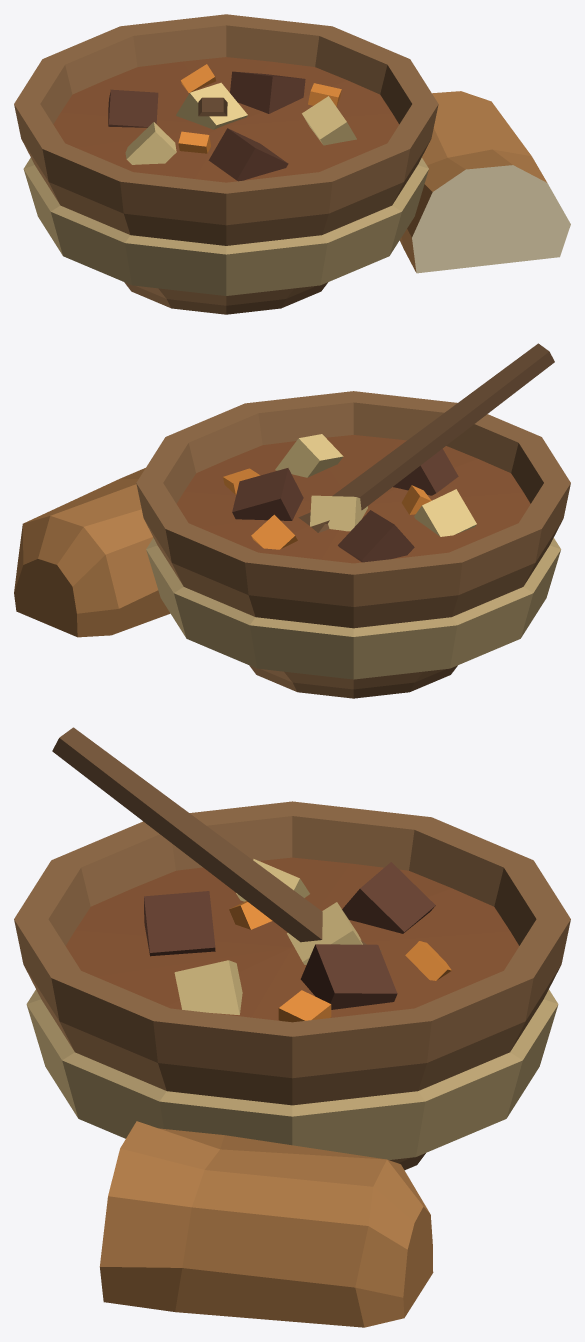
The model's file is it-meal.glb.
3 views of the same model, one above another, from view 1: azimuth 30°, elevation 25°; view 2: azimuth 150°, elevation 25°; view 3: azimuth 270°, elevation 25° (orthographic). The views are drawn at different scales.
Visible parts, largest first — view 1: bowl, stew, bread, bowl_band, spoon; view 2: bowl, stew, bowl_band, bread, spoon; view 3: bowl, bread, stew, bowl_band, spoon.
Boxes of the visible parts, x1=… form: bowl: x1=14, y1=14, x2=438, y2=314; stew: x1=53, y1=57, x2=399, y2=182; bread: x1=399, y1=91, x2=570, y2=273; bowl_band: x1=23, y1=157, x2=428, y2=295; spoon: x1=198, y1=97, x2=227, y2=116; bowl: x1=136, y1=391, x2=570, y2=698; stew: x1=176, y1=434, x2=530, y2=563; bowl_band: x1=146, y1=538, x2=560, y2=679; bread: x1=14, y1=468, x2=170, y2=637; spoon: x1=298, y1=343, x2=554, y2=532; bowl: x1=14, y1=801, x2=570, y2=1170; bread: x1=99, y1=1121, x2=433, y2=1327; stew: x1=65, y1=857, x2=519, y2=1022; bowl_band: x1=26, y1=989, x2=558, y2=1159; spoon: x1=52, y1=727, x2=381, y2=951.
Size of what is drawn, in the model's own units: 0.2361 by 0.1193 by 0.178.
